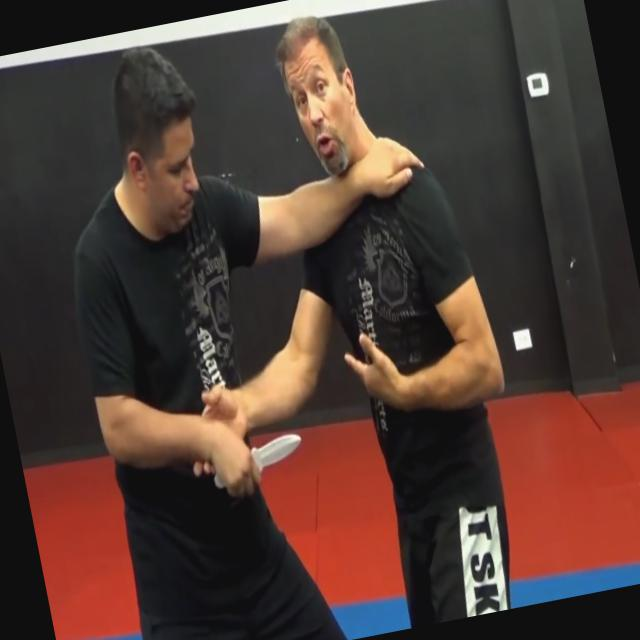knife: (205, 424, 311, 502)
